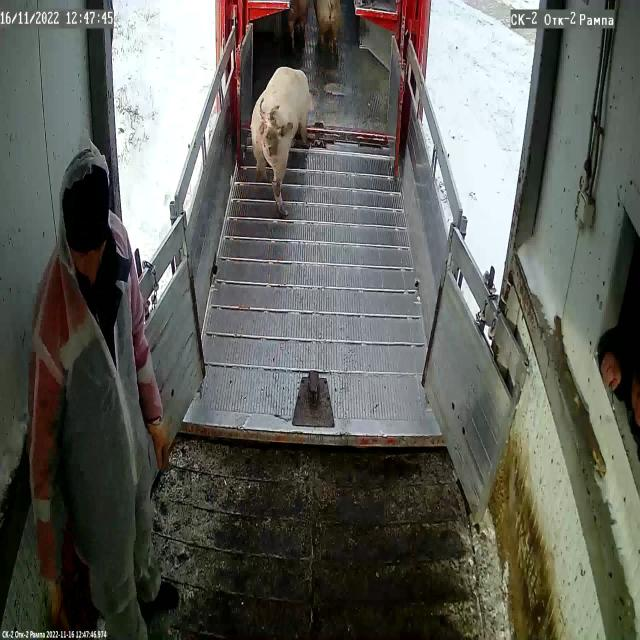pig: (251, 67, 310, 214)
